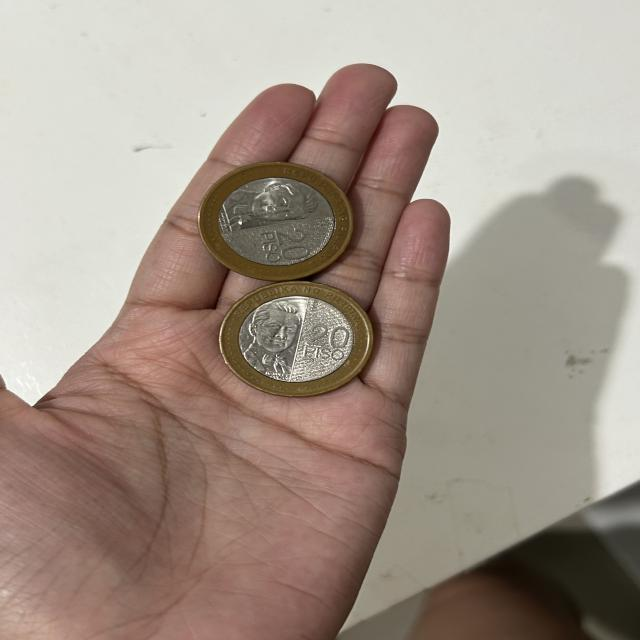20_New_Front: (256, 224, 314, 264), (304, 321, 352, 368)
